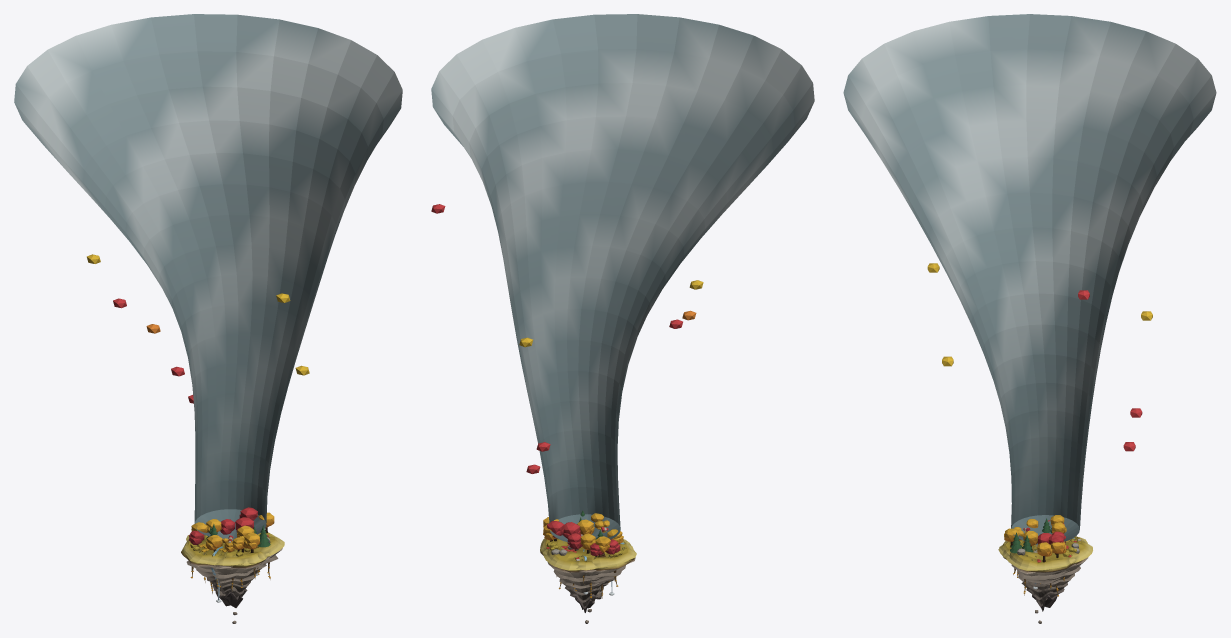
Rendered from isle-gust-BIGIbhIA.glb.
3 renders of one model, left to right at view 1: azimuth 30°, elevation 25°; view 2: azimuth 150°, elevation 25°; view 3: azimuth 270°, elevation 25°, orthographic. The views are drawn at different scales.
Visible parts, largest first — view 1: far, isle_1, isle_2, isle_0; view 2: far, isle_2, isle_1, isle_0; view 3: far, isle_2, isle_1, isle_0.
Boxes of the visible parts, x1,y1,x2,y2 form: far: [14, 14, 402, 540]; isle_1: [181, 512, 284, 598]; isle_2: [191, 507, 266, 623]; isle_0: [186, 525, 271, 591]; far: [431, 14, 814, 542]; isle_2: [543, 521, 624, 623]; isle_1: [540, 517, 636, 599]; isle_0: [542, 510, 631, 591]; far: [843, 14, 1216, 545]; isle_2: [999, 515, 1092, 623]; isle_1: [1006, 527, 1076, 596]; isle_0: [998, 518, 1087, 589].
Size of the model in its own units: 368 by 562 by 368.
